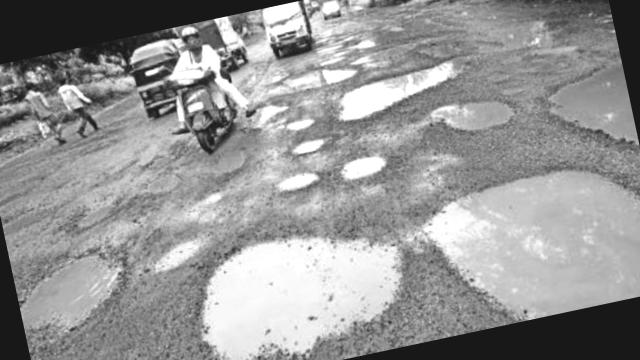Pothole: (425, 156, 640, 335), (194, 207, 410, 356), (516, 31, 640, 170), (14, 234, 146, 340), (332, 57, 483, 124), (427, 76, 525, 156), (482, 6, 568, 70), (354, 2, 459, 47), (275, 57, 363, 103), (196, 144, 268, 185), (342, 147, 402, 193), (346, 35, 422, 68), (64, 193, 128, 232), (0, 185, 49, 234), (239, 96, 292, 134), (276, 162, 326, 195), (418, 35, 468, 68), (143, 168, 190, 194), (292, 137, 332, 161), (285, 114, 319, 134), (142, 148, 178, 166)
